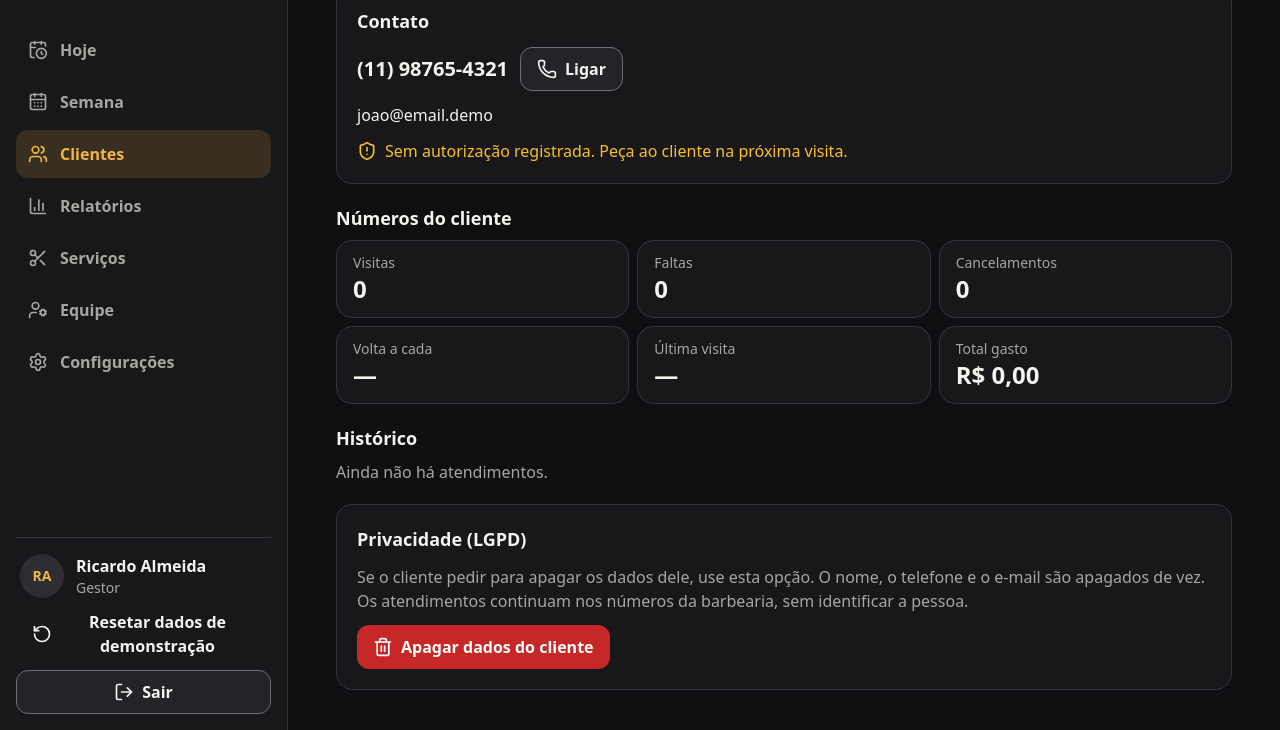
ClientsPage › erases the client data at their request, after confirmation (owner only)
This screenshot has width=1280, height=730.
(page scrolled)
Click the button "Apagar dados do cliente" at (483, 647), box [357,625,610,669]
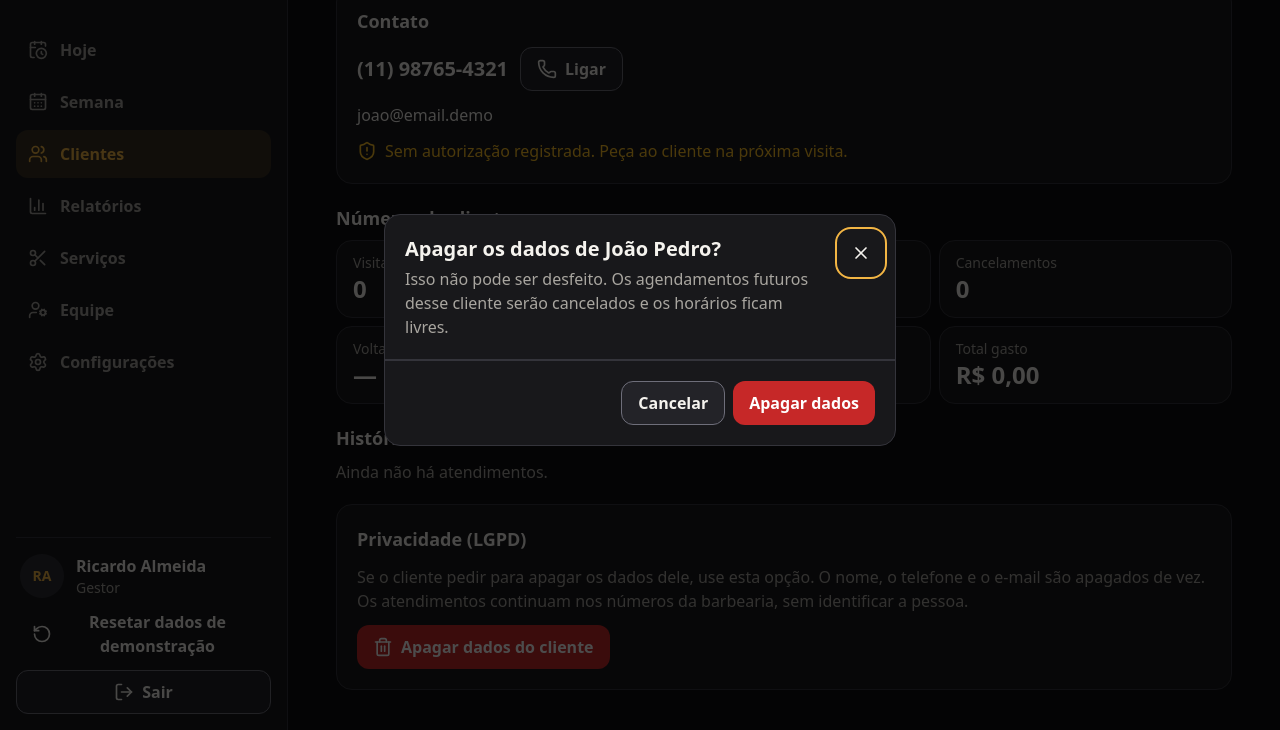
Click the button "Apagar dados" at (804, 403), box [733,381,875,425]
(page scrolled)
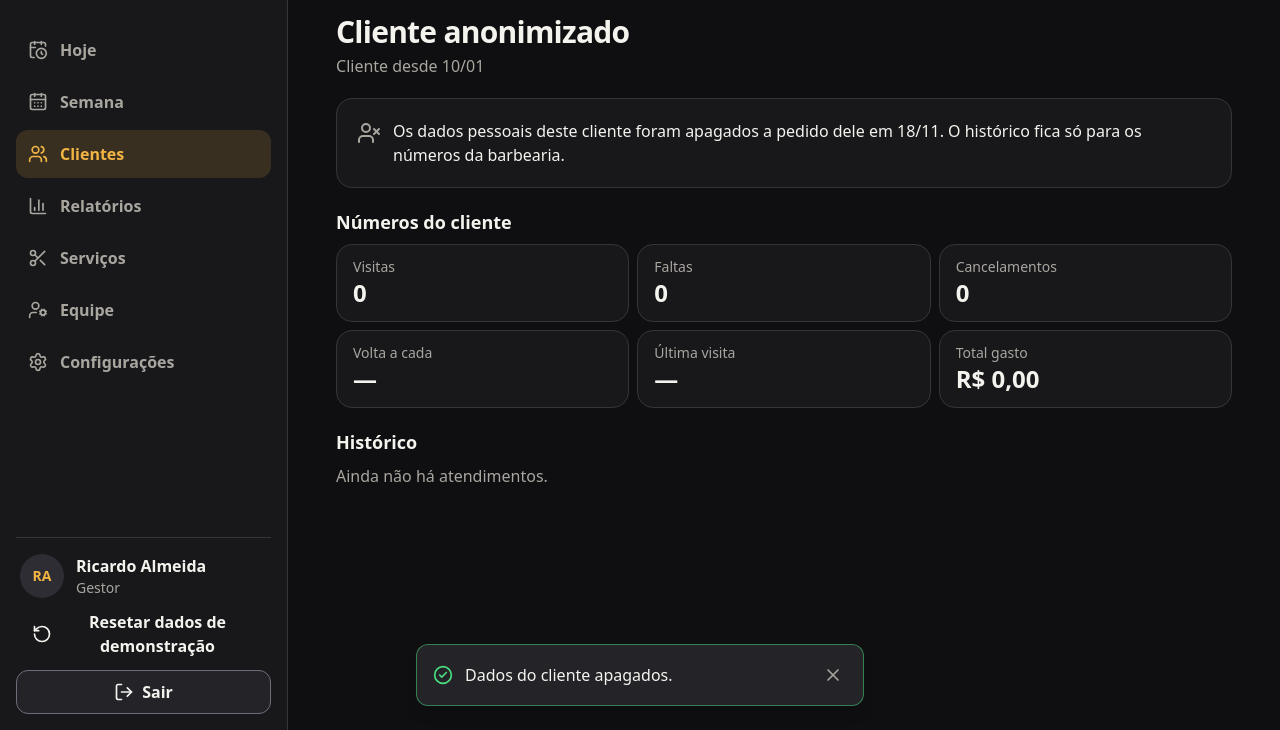
Result: the text "Dados do cliente apagados." is shown at [465,664,673,686]
Result: the heading "Cliente anonimizado" is shown at [336,14,629,50]
Result: the text "foram apagados a pedido dele em 18/11" is shown at [393,120,1142,166]
